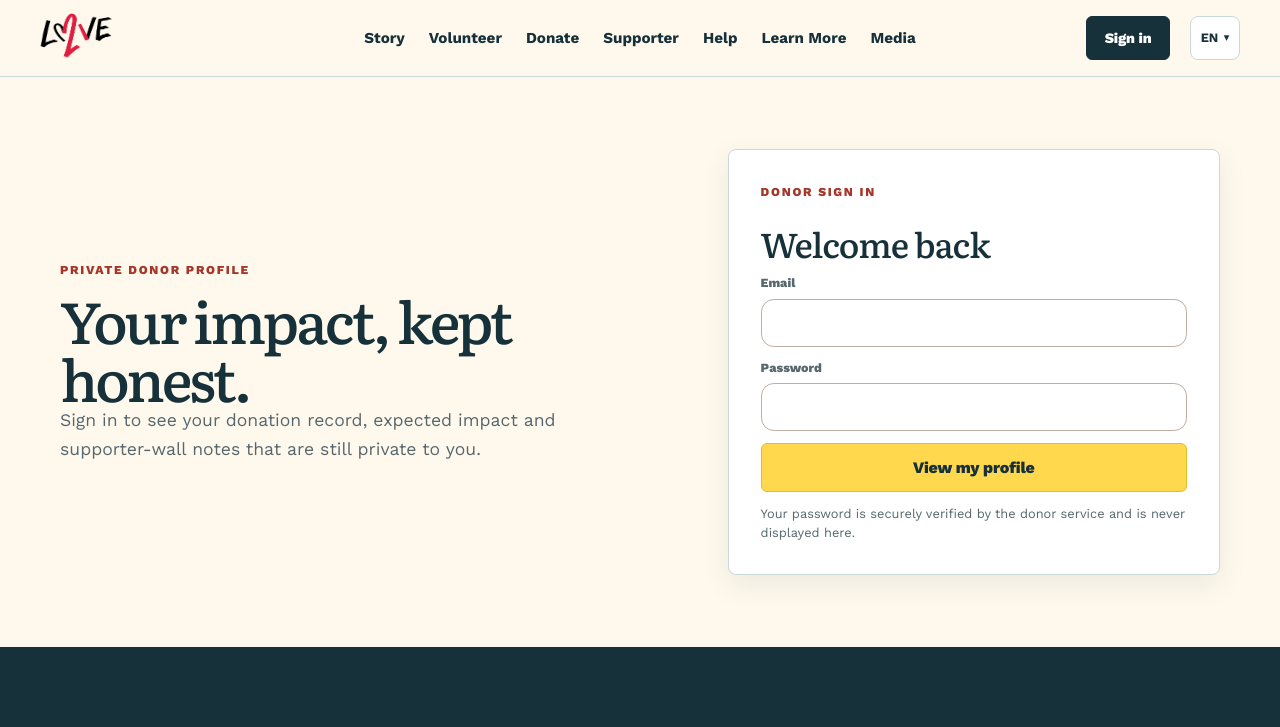
Test case: donor community experience › reveals the private, evidence-backed donor record after demo sign in
Expected: the button "View my profile" is enabled, [761,443,1187,492]
Step 1. Type "supporter@example.com" into the field labelled "Email" → (974, 323), box [761,299,1187,347]
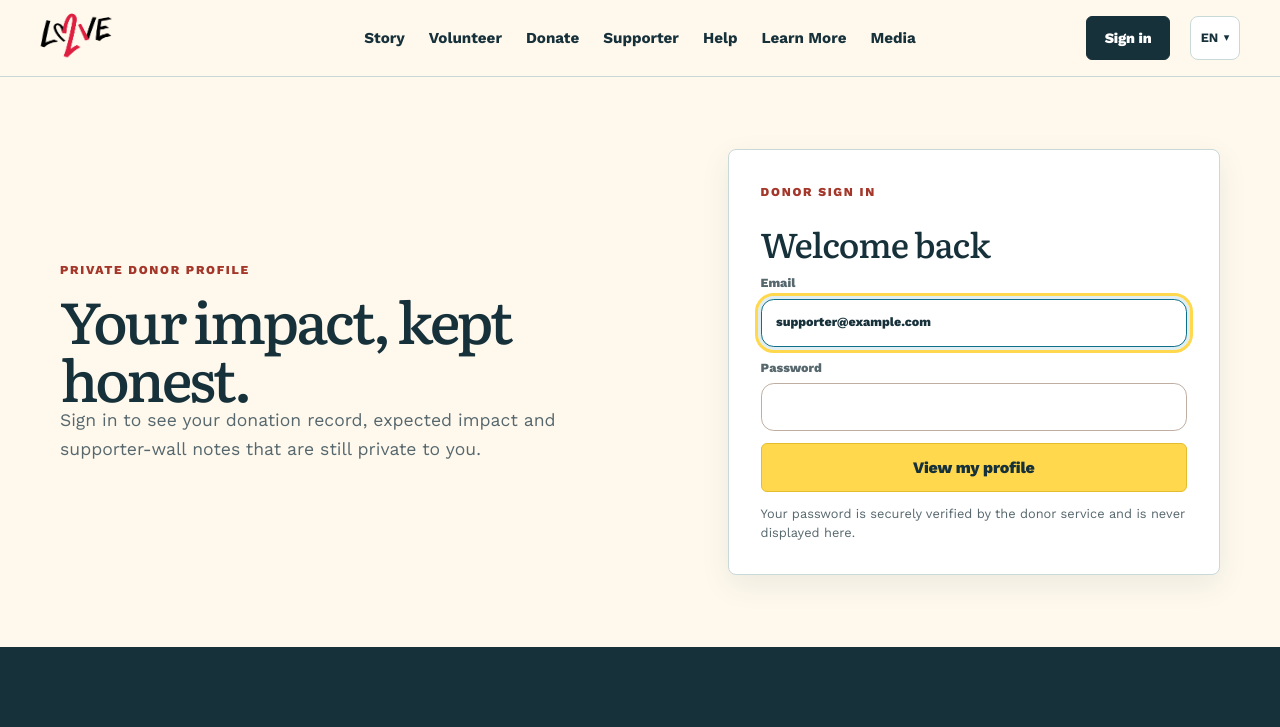
Step 2. Type "private-demo" into the password field labelled "Password" → (974, 407), box [761,383,1187,431]
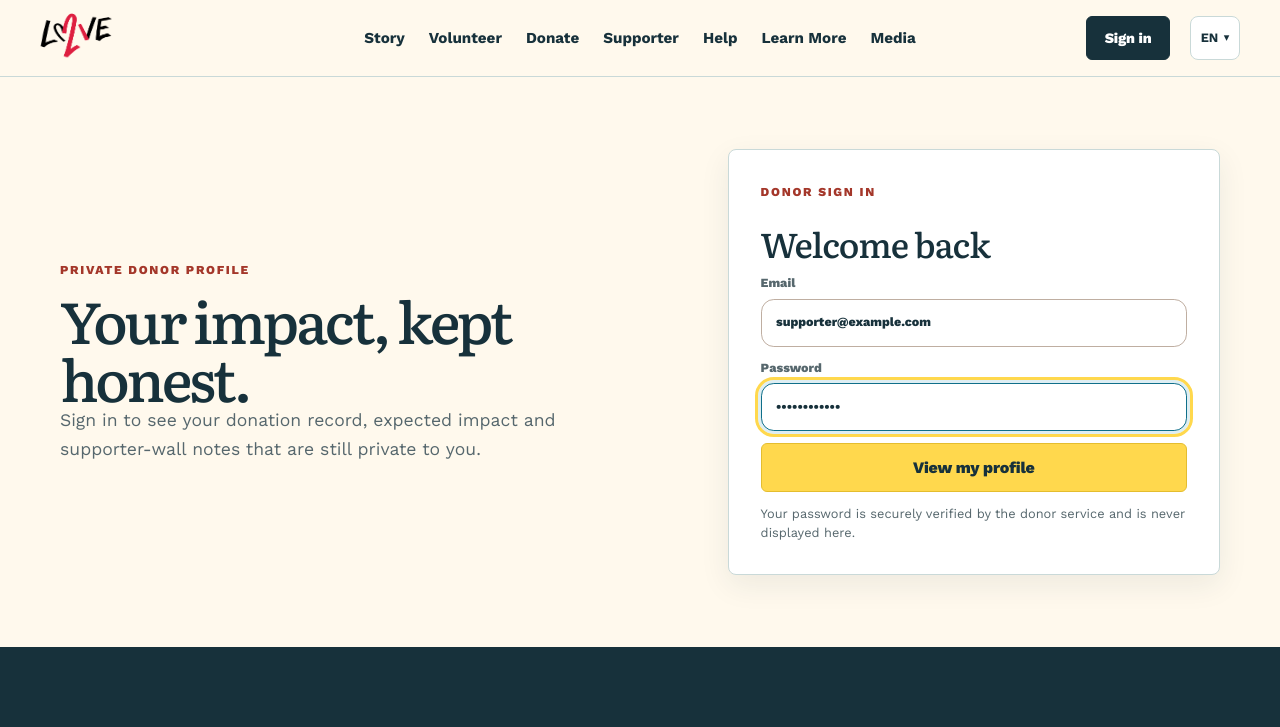
Step 3. Click the button "View my profile" → (974, 468), box [761,443,1187,492]
(page scrolled)
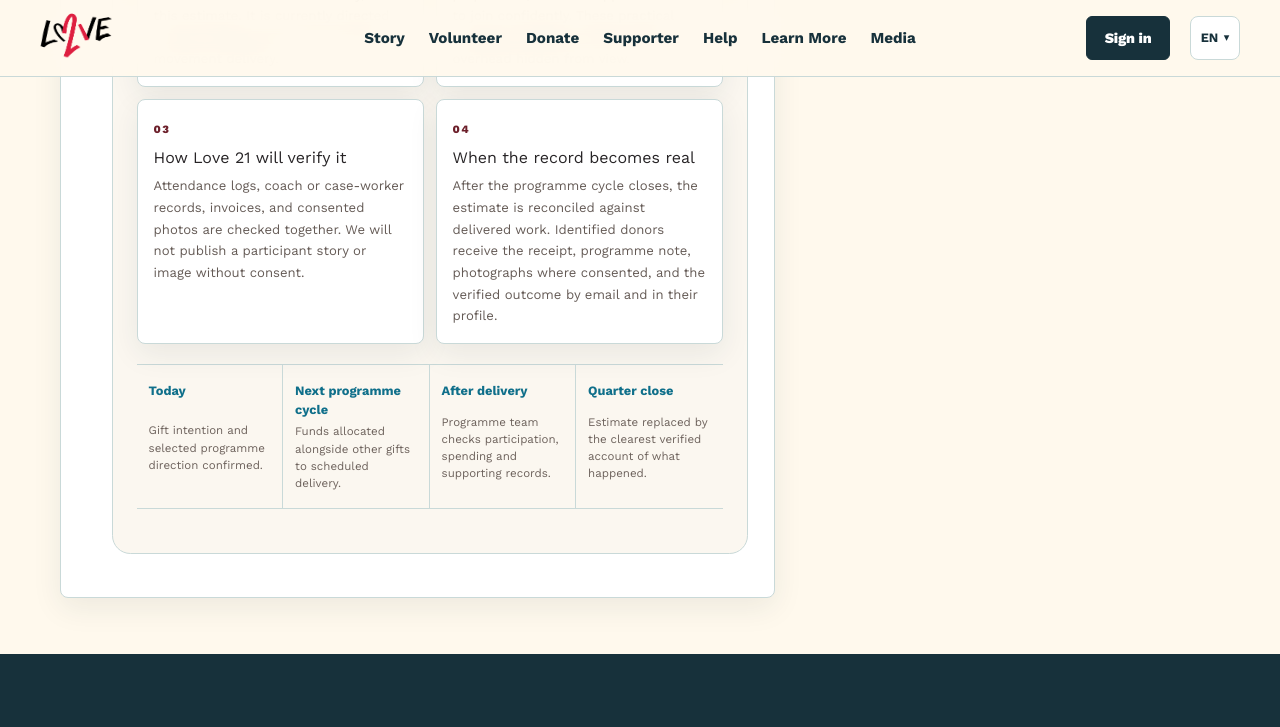
Now the text "Next programme cycle" is shown, box [295,381,417,419]
